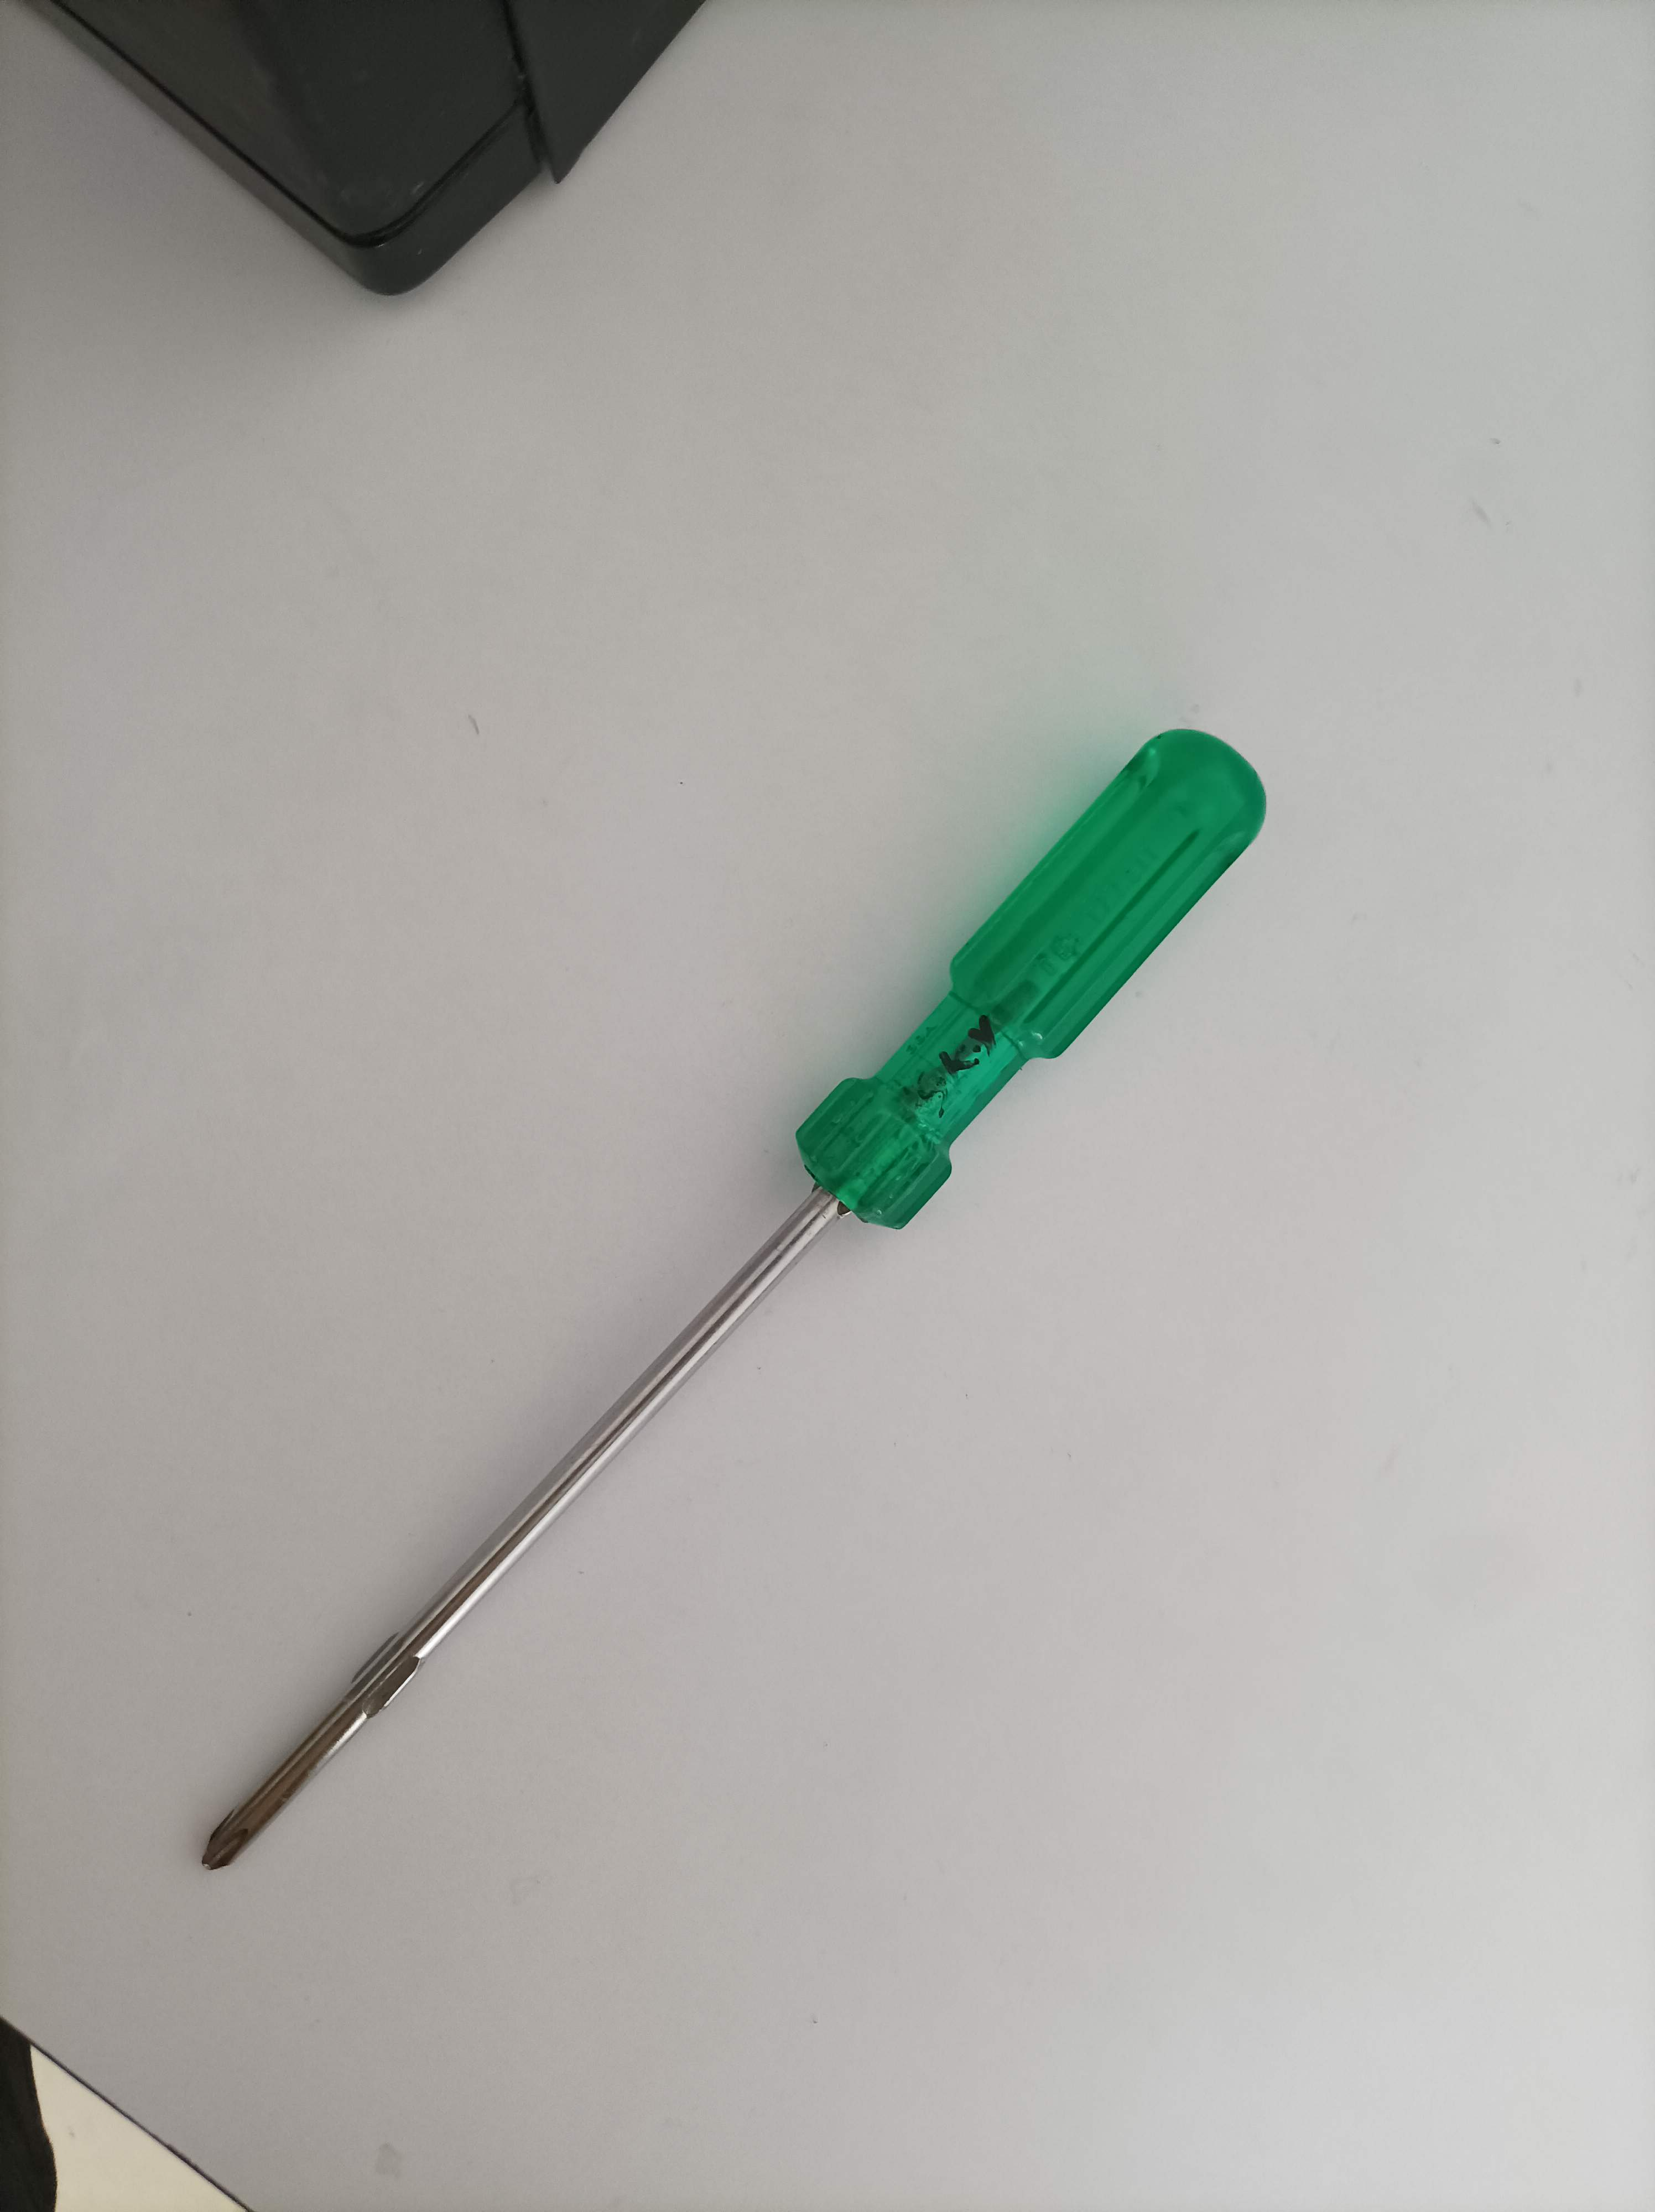screwdriver: (193, 700, 1281, 1882)
